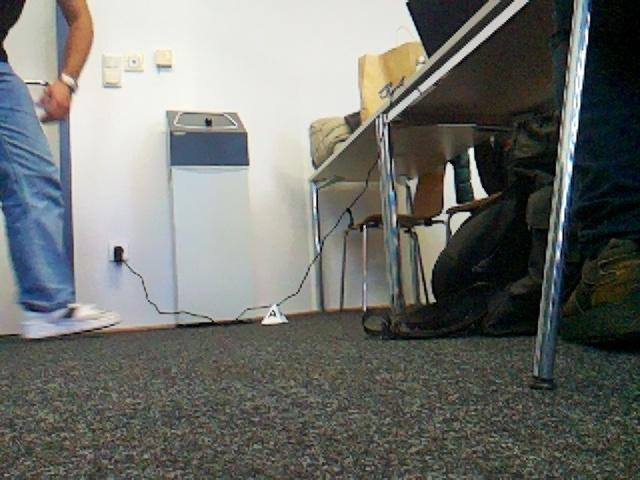A: (262, 304, 287, 323)
